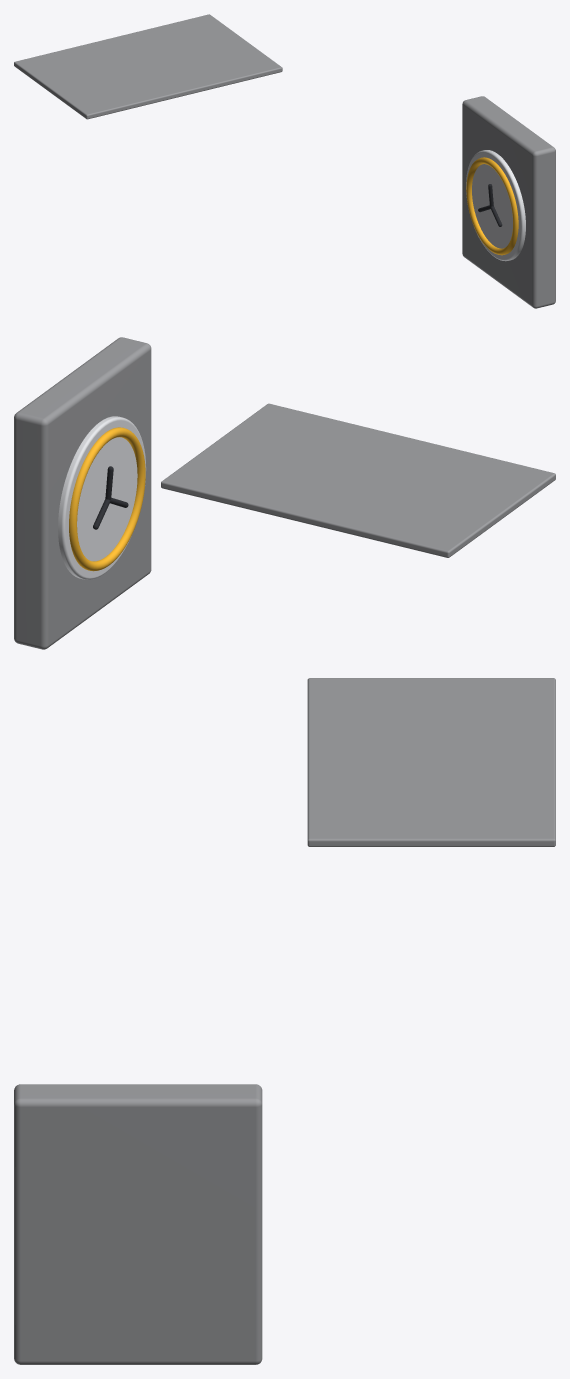
File: art_gallery_heist__skylight_vault.glb
3 views of the same model, one above another, from view 1: azimuth 30°, elevation 25°; view 2: azimuth 150°, elevation 25°; view 3: azimuth 270°, elevation 25° (orthographic). The views are drawn at different scales.
Parts seen in each view (by area): view 1: Set; view 2: Set; view 3: Set.
Part boxes in pixels (x1,y1,x2,y2): Set: (14, 14, 555, 308); Set: (14, 337, 555, 649); Set: (14, 678, 555, 1364).
Bounding box in the file's own units: 6.65 × 3.64 × 4.8.
